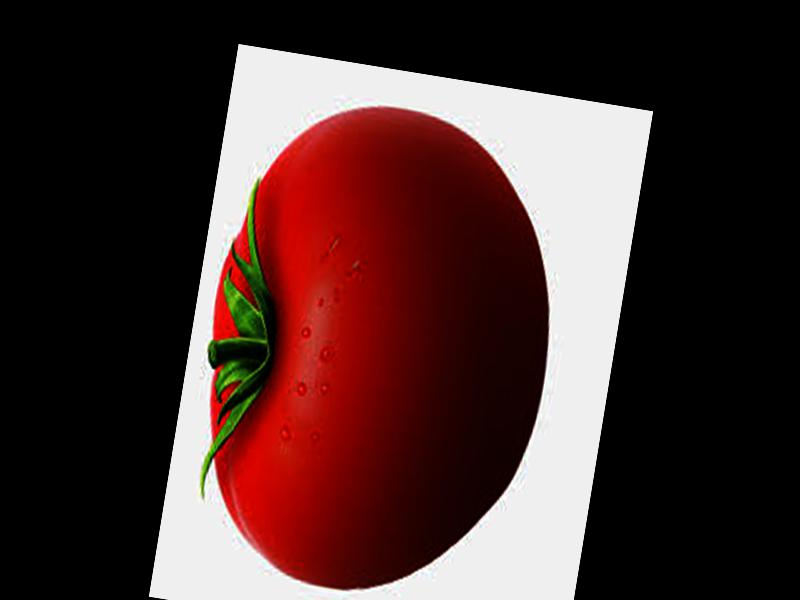Tomato: (173, 141, 574, 600)
